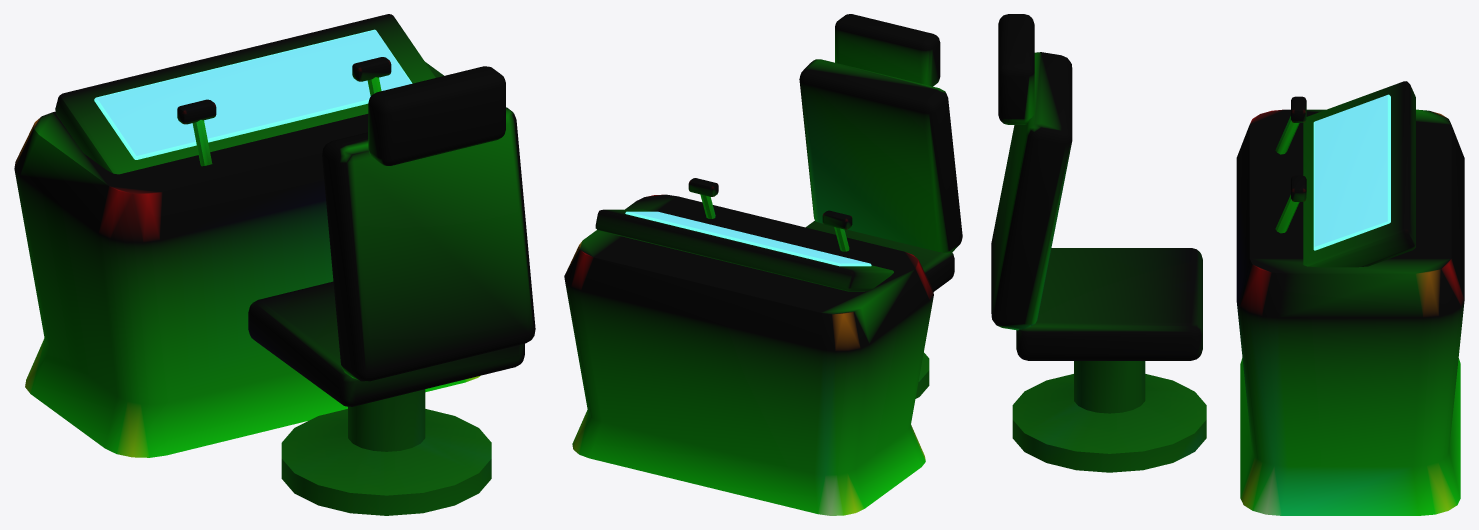
Rendered from hero_pilot_pod.glb.
The picture shows the model from 3 angles, left to right: view 1: azimuth 30°, elevation 25°; view 2: azimuth 150°, elevation 25°; view 3: azimuth 270°, elevation 25°; orthographic projection. The views are drawn at different scales.
Parts seen in each view (by area): view 1: HeroPilotPod; view 2: HeroPilotPod; view 3: HeroPilotPod.
Boxes of the visible parts, x1,y1,x2,y2 form: HeroPilotPod: (14,14,535,515); HeroPilotPod: (564,14,962,515); HeroPilotPod: (991,14,1464,515).
Size of the model in its own units: 1.62 by 1.67 by 1.83.
